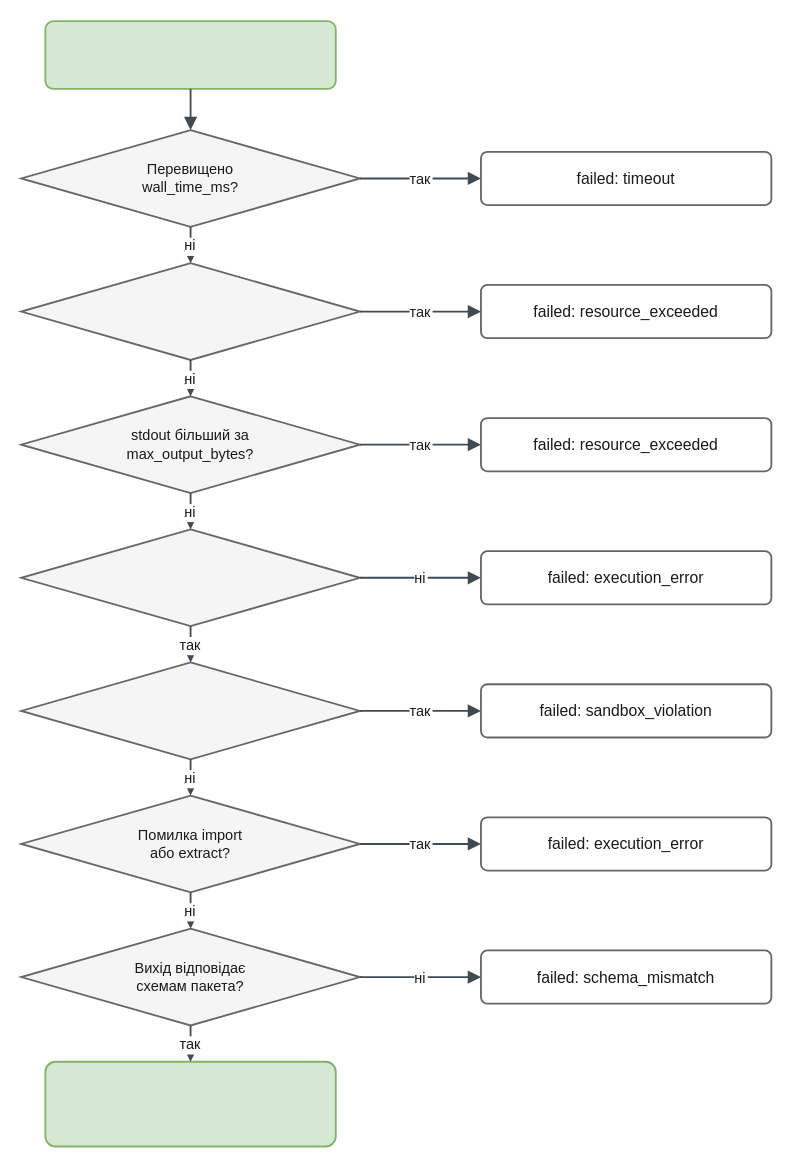
This 794x1169 diagram has some shape labels left out. The centre of each missing label's shape, as x and y in pixels:
"SandboxOutcome: код виходу, stdout, stderr" goes at (x=190, y=54).
"SIGKILL або OOM під лімітом пам'яті?" goes at (x=190, y=311).
"stdout — JSON протоколу v1?" goes at (x=190, y=577).
"Статус за входами: unrecognized, інакше success, інакше empty" goes at (x=190, y=1103).
"Є violations аудит-хука?" goes at (x=190, y=710).
